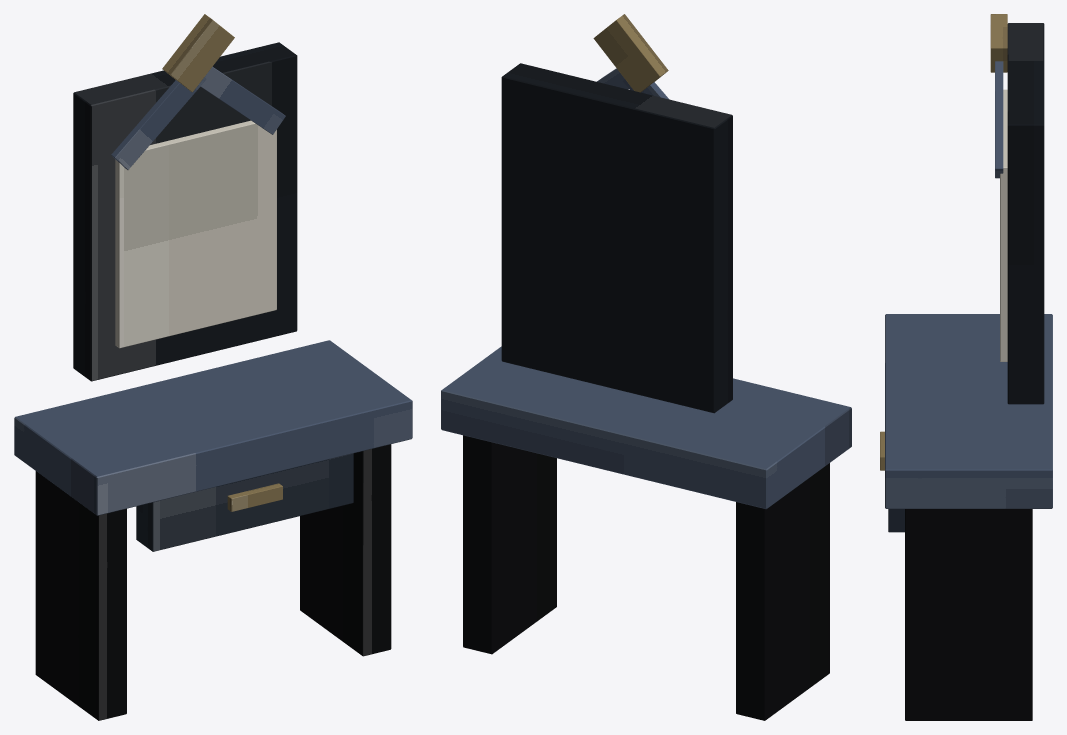
Rendered from gothic_vanity_midnight.glb.
The picture shows the model from 3 angles, left to right: view 1: azimuth 30°, elevation 25°; view 2: azimuth 150°, elevation 25°; view 3: azimuth 270°, elevation 25°; orthographic projection. The views are drawn at different scales.
Parts seen in each view (by area): view 1: VanityTop, MirrorGlass, MirrorBack, VanityLeg-0.46, VanityLeg0.46, VanityDrawer, MirrorSpire, MirrorArchLeft, MirrorArchRight, VanityPull; view 2: MirrorBack, VanityTop, VanityLeg-0.46, VanityLeg0.46, MirrorSpire; view 3: VanityTop, VanityLeg0.46, MirrorBack, MirrorGlass, MirrorArchRight, MirrorSpire, VanityDrawer.
Boxes of the visible parts, x1,y1,x2,y2 form: VanityTop: [14, 340, 412, 515]; MirrorGlass: [115, 120, 276, 348]; MirrorBack: [73, 42, 297, 381]; VanityLeg-0.46: [35, 471, 126, 720]; VanityLeg0.46: [300, 444, 391, 656]; VanityDrawer: [136, 453, 353, 551]; MirrorSpire: [162, 14, 234, 92]; MirrorArchLeft: [111, 77, 206, 169]; MirrorArchRight: [198, 66, 285, 134]; VanityPull: [227, 483, 282, 511]; MirrorBack: [501, 63, 732, 413]; VanityTop: [441, 346, 851, 509]; VanityLeg-0.46: [736, 463, 829, 720]; VanityLeg0.46: [463, 435, 556, 654]; MirrorSpire: [593, 14, 668, 92]; VanityTop: [885, 314, 1052, 508]; VanityLeg0.46: [905, 509, 1032, 720]; MirrorBack: [1007, 23, 1044, 404]; MirrorGlass: [1000, 89, 1007, 361]; MirrorArchRight: [995, 61, 1003, 178]; MirrorSpire: [990, 14, 1007, 72]; VanityDrawer: [888, 509, 904, 532].
Bounding box in the file's own units: 1.1 × 2.1 × 0.5145.
1 material, 1 textured.
